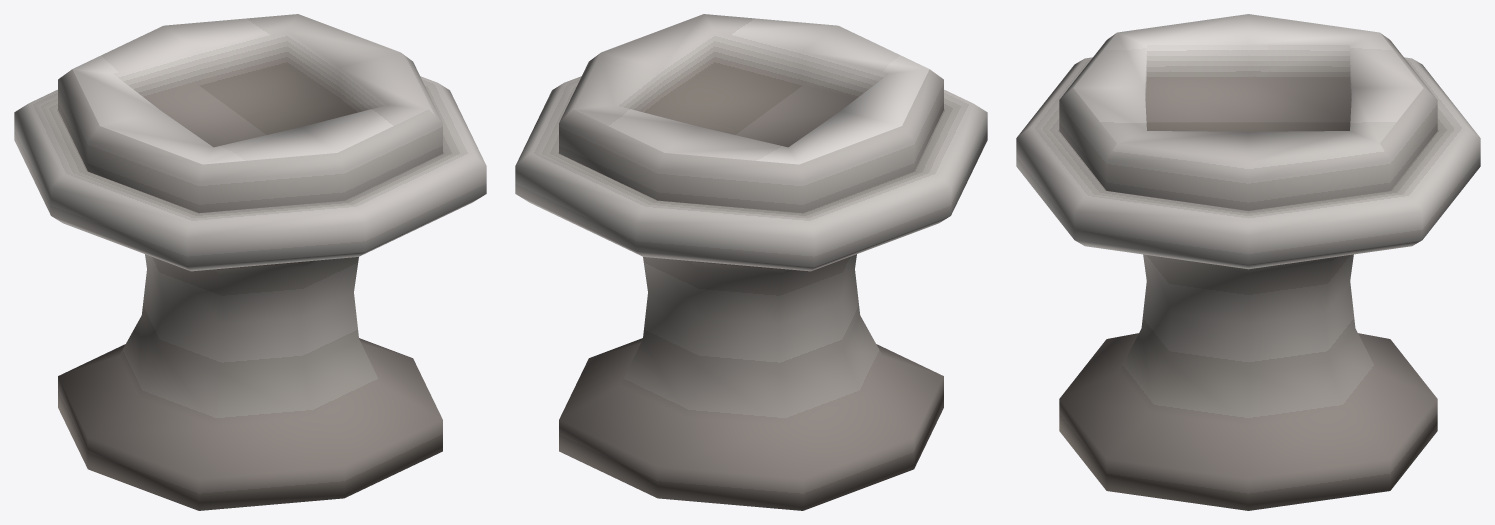
The model's file is DL_Obj_Level5_AltarSquare.fbx.
3 views of the same model, side by side, from view 1: azimuth 30°, elevation 25°; view 2: azimuth 150°, elevation 25°; view 3: azimuth 270°, elevation 25° (orthographic).
Visible parts, largest first — view 1: Level5_AltarSquare; view 2: Level5_AltarSquare; view 3: Level5_AltarSquare.
Boxes of the visible parts, x1,y1,x2,y2 form: Level5_AltarSquare: [14, 14, 486, 510]; Level5_AltarSquare: [515, 14, 987, 510]; Level5_AltarSquare: [1016, 14, 1480, 510].
Bounding box in the file's own units: 123 × 100 × 123.
